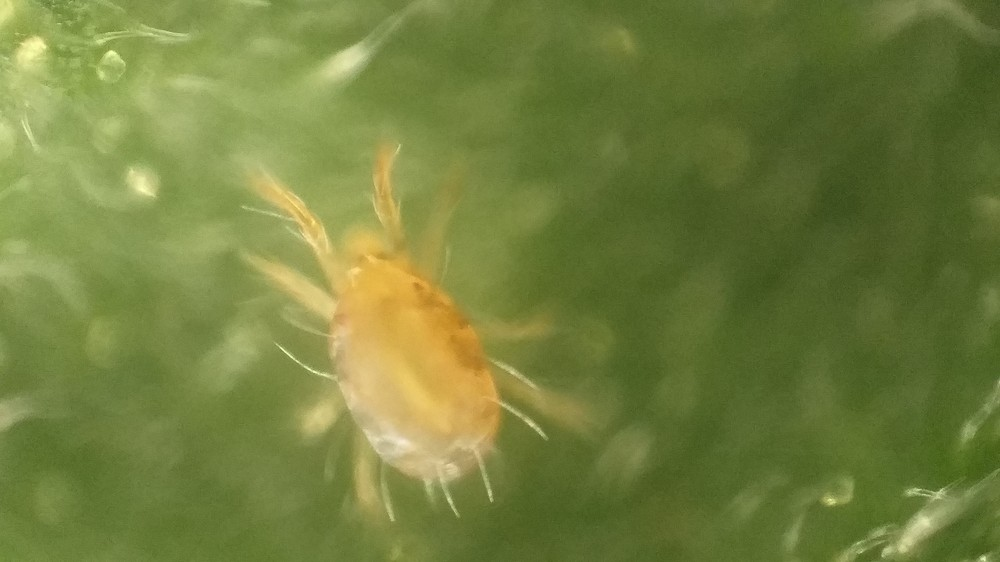Aracnido Rojo: (203, 143, 617, 530)
